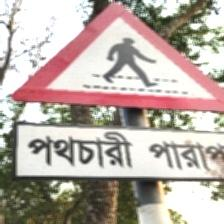Pedestrian-crossing: (12, 0, 224, 184)
